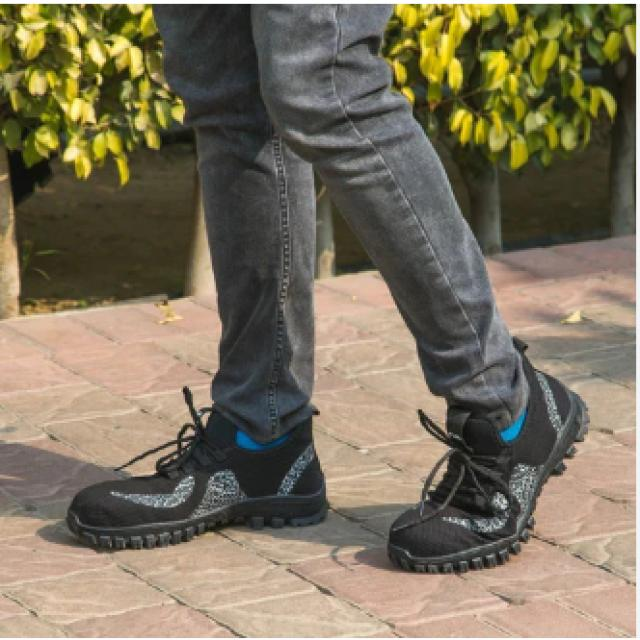boots: (65, 335, 590, 575)
